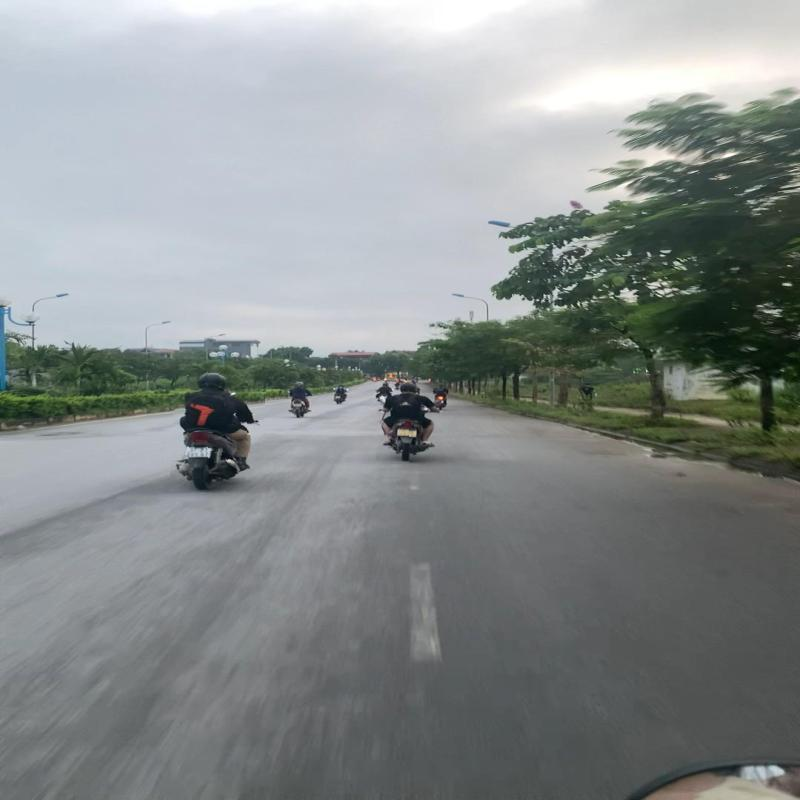helmet: (196, 372, 229, 390)
licenseplate: (183, 446, 216, 461)
motorcyclist: (170, 371, 264, 493), (377, 382, 442, 465)
